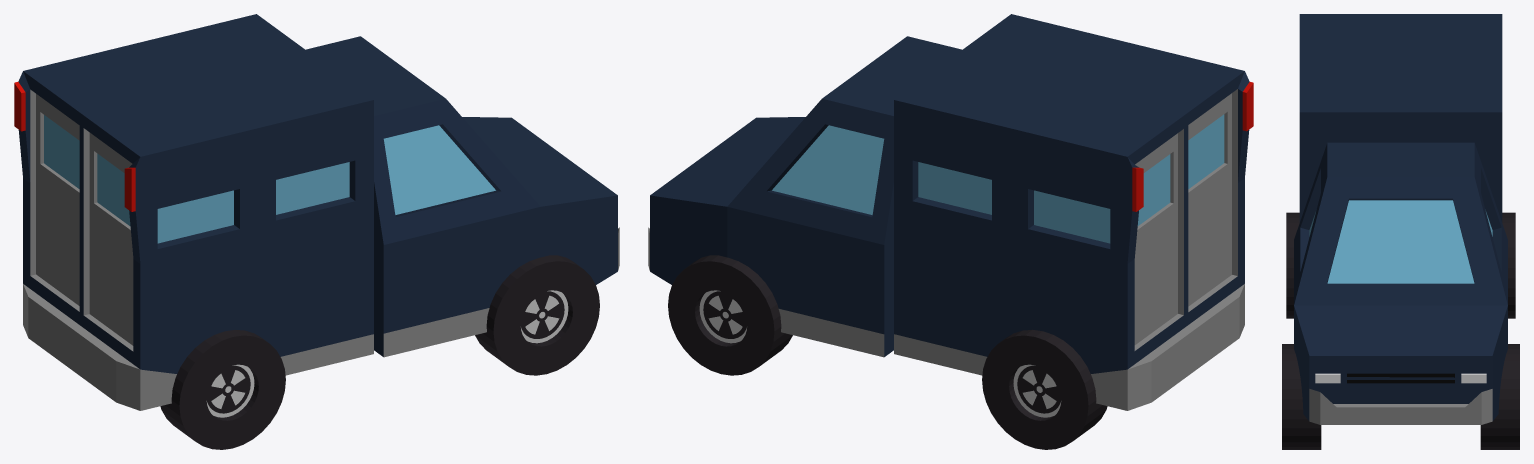
The model's file is Swat.fbx.
3 views of the same model, side by side, from view 1: azimuth 30°, elevation 25°; view 2: azimuth 150°, elevation 25°; view 3: azimuth 270°, elevation 25° (orthographic). The views are drawn at different scales.
Parts seen in each view (by area): view 1: Cubo, LlantasT, LlantasD; view 2: Cubo, LlantasT, LlantasD; view 3: Cubo, LlantasD, LlantasT.
Part boxes in pixels (box(x1,y1,x2,y2)): Cubo: box(14, 14, 619, 410); LlantasT: box(160, 329, 285, 449); LlantasD: box(475, 255, 599, 375); Cubo: box(648, 14, 1253, 410); LlantasT: box(982, 329, 1107, 449); LlantasD: box(668, 255, 792, 375); Cubo: box(1294, 14, 1507, 424); LlantasD: box(1282, 344, 1519, 449); LlantasT: box(1286, 212, 1515, 318).
Size of the model in its own units: 466 by 273 by 222.
